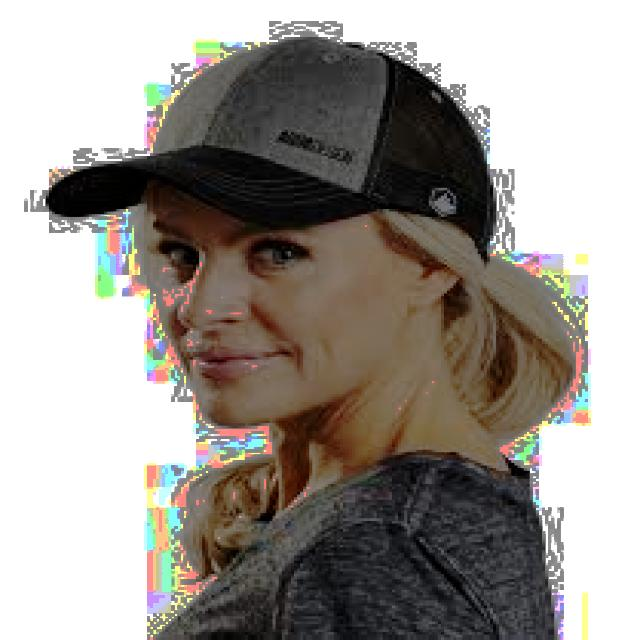TOPI: (37, 18, 517, 268)
